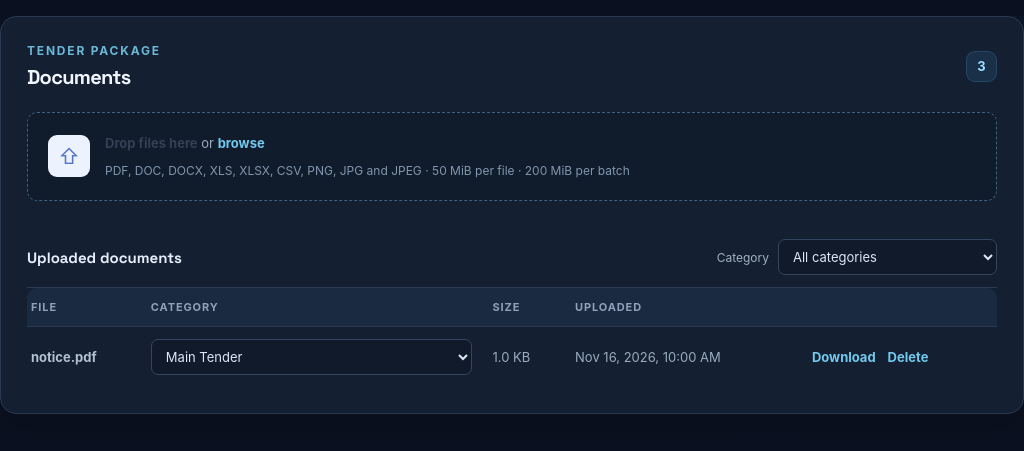
Test case: tender document management › reports download failures
This screenshot has width=1024, height=451.
Expected: the text "notice.pdf" is shown, [31, 349, 97, 365]
Click the button "Download".
click(844, 357)  # box [812, 349, 876, 365]
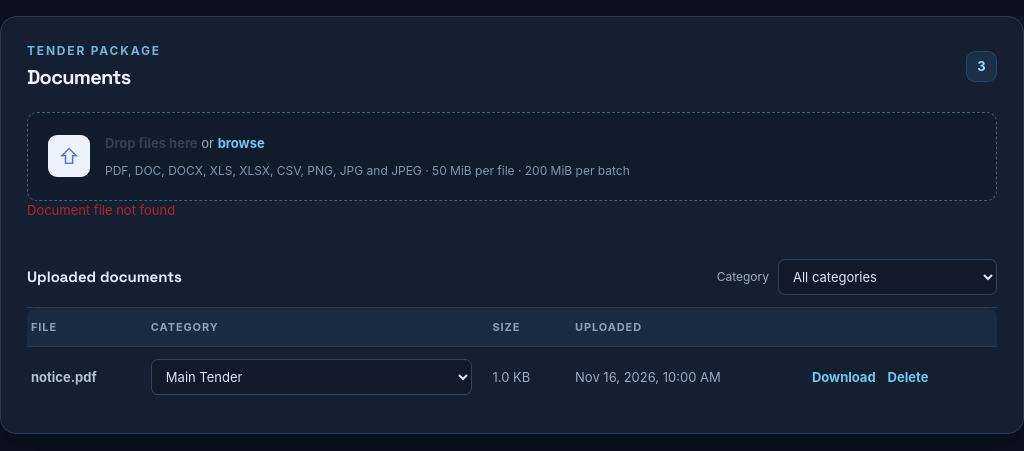
Result: the message reads "Document file not found" at [27, 202, 175, 218]
